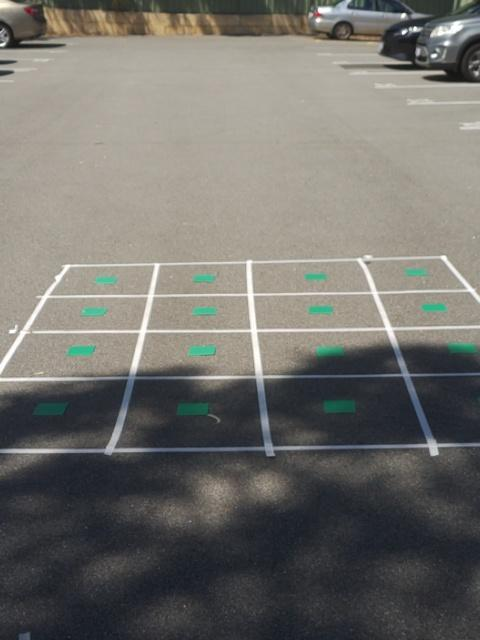weed: (33, 396, 71, 420), (320, 396, 358, 418), (186, 338, 220, 361), (176, 398, 210, 419), (317, 340, 342, 368), (64, 340, 97, 360), (447, 339, 474, 360), (189, 302, 219, 320), (306, 301, 333, 320), (421, 298, 448, 317), (80, 303, 107, 321), (191, 270, 216, 288), (92, 271, 118, 288), (404, 262, 427, 281), (304, 267, 328, 284)
